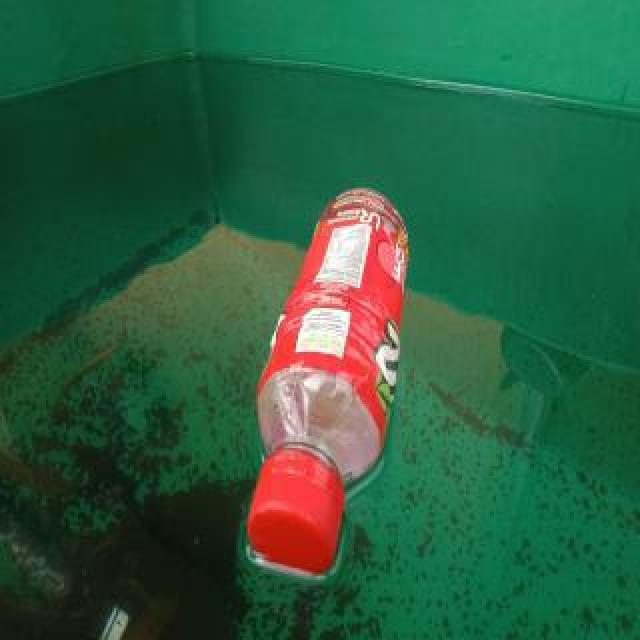bottle: (248, 181, 412, 575)
